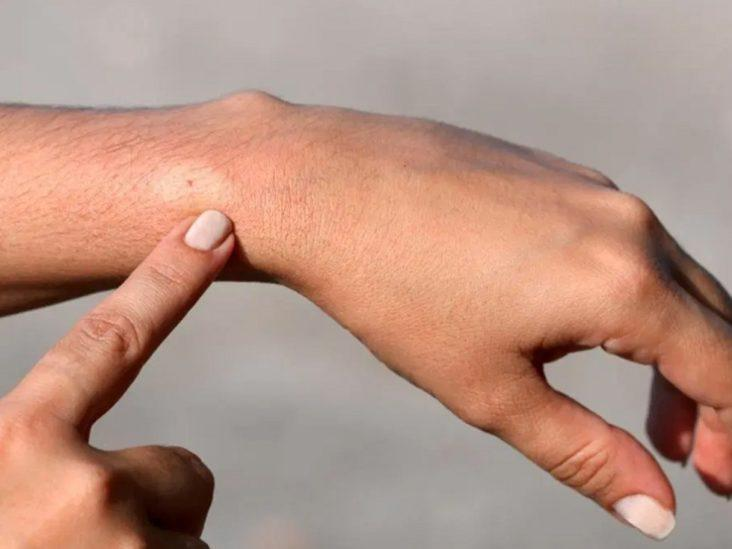Yellow-Jacket: (141, 142, 244, 216)
